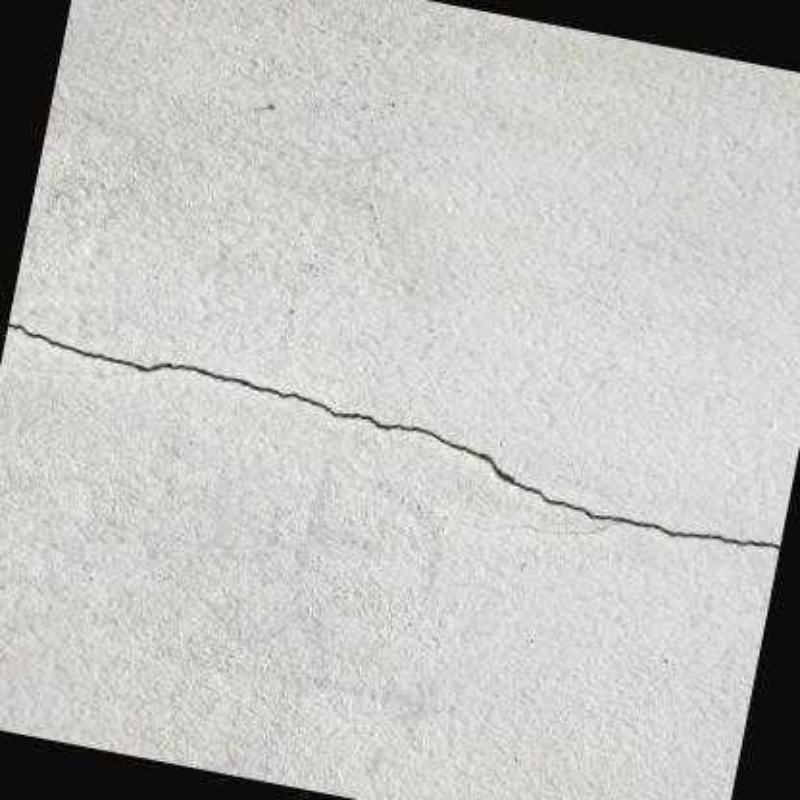pothole: (6, 322, 778, 548), (463, 521, 623, 540)
